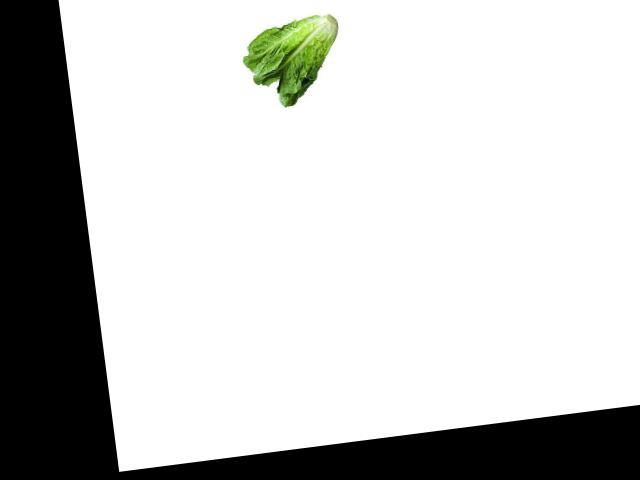lettuce: (238, 8, 345, 116)
